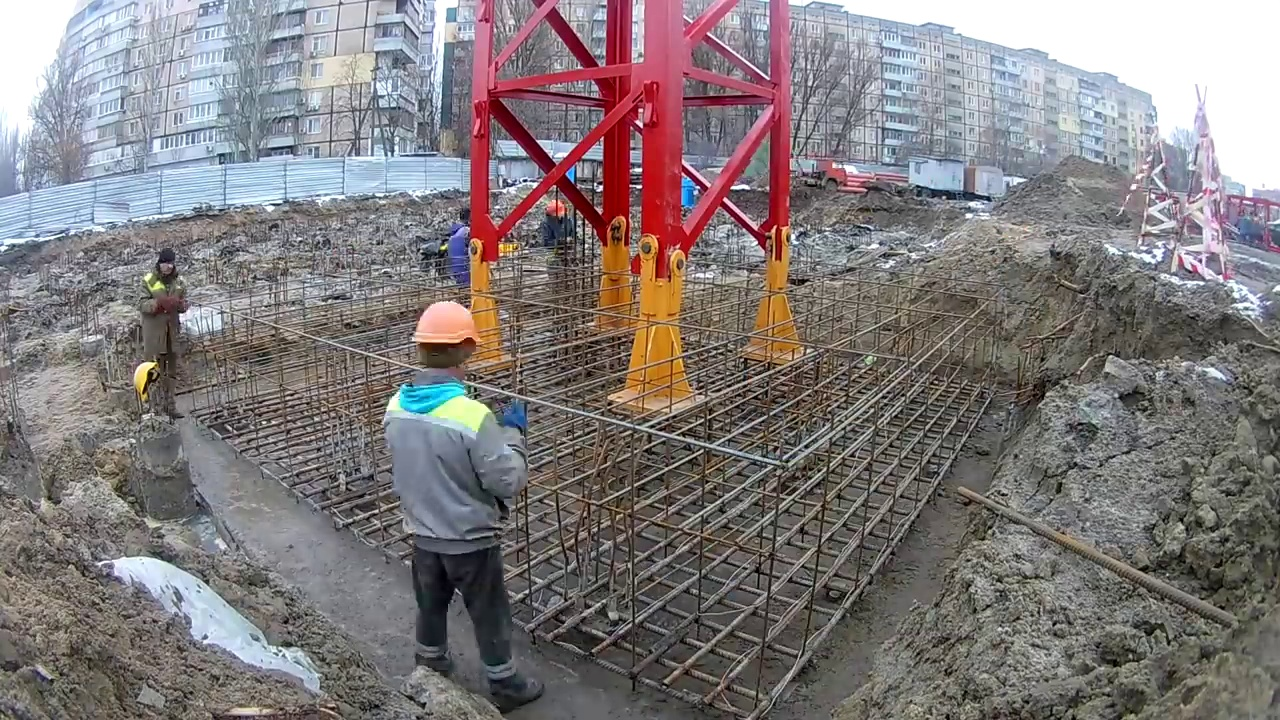helmet: (407, 307, 477, 356), (133, 362, 158, 404), (546, 200, 566, 219)
helmet-off: (154, 249, 179, 283), (456, 208, 473, 236)
helmet-on: (543, 200, 570, 232)
person: (371, 294, 541, 714), (1140, 153, 1229, 276), (134, 248, 189, 420), (445, 209, 471, 287), (540, 201, 576, 250)
